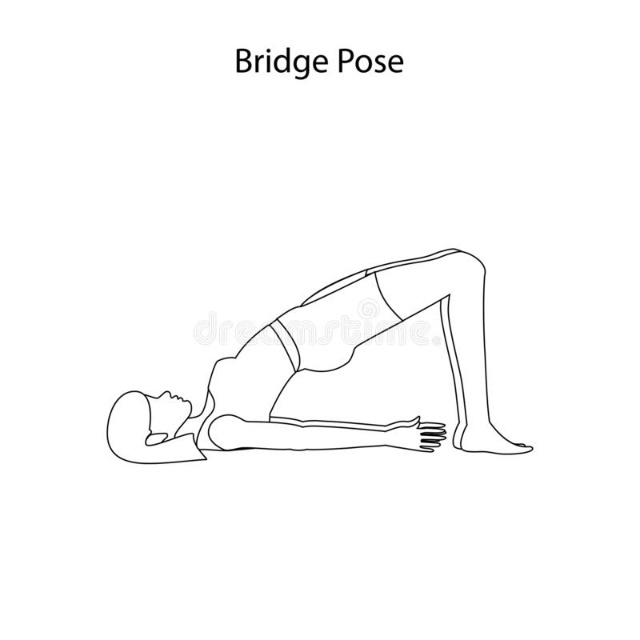Bridge_Pose: (96, 244, 550, 459)
